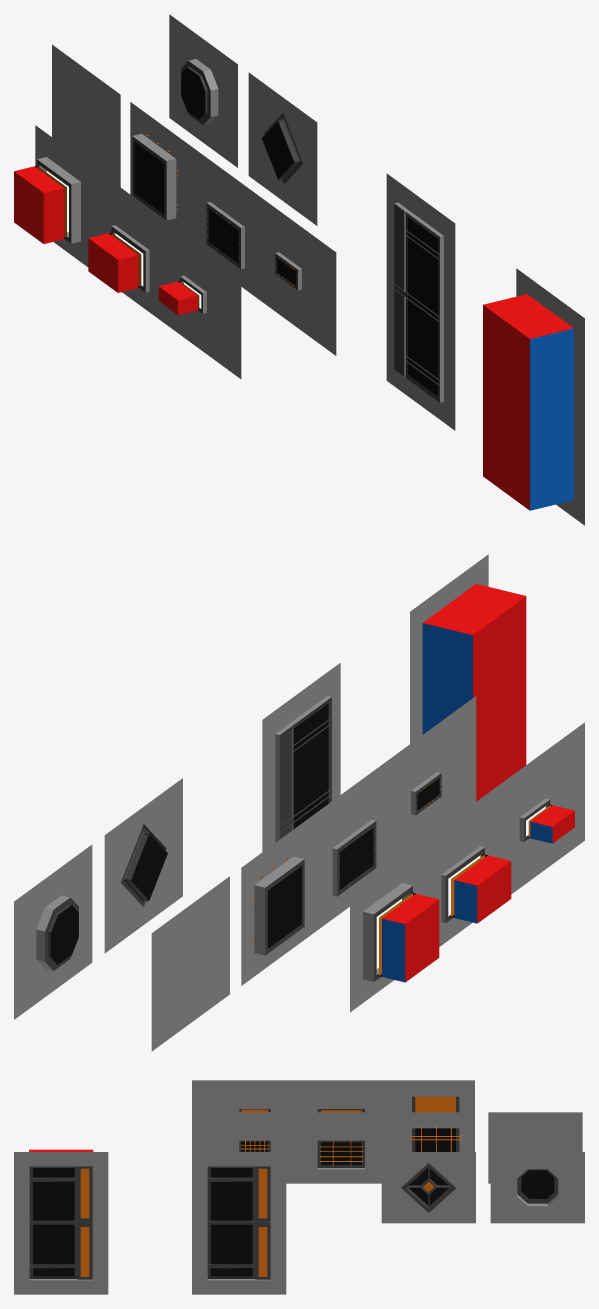
File: CityWindows00.FBX
The picture shows the model from 3 angles, top to bottom: view 1: azimuth 30°, elevation 25°; view 2: azimuth 150°, elevation 25°; view 3: azimuth 270°, elevation 25°; orthographic projection. The views are drawn at different scales.
Visible parts, largest first — view 1: CityTerrain_Window03b, CityTerrain_Window03, CityTerrain_Window02b, CityTerrain_Window00b, CityTerrain_Window01b, CityTerrain_Window00, CityTerrain_Window04, CityTerrain_Window05, CityTerrain_Window01, CityTerrain_Window02, CityTerrain_Base_3x2.008; view 2: CityTerrain_Window03b, CityTerrain_Window03, CityTerrain_Window02b, CityTerrain_Base_3x2.008, CityTerrain_Window04, CityTerrain_Window05, CityTerrain_Window02, CityTerrain_Window00b, CityTerrain_Window01b, CityTerrain_Window01, CityTerrain_Window00; view 3: CityTerrain_Window03b, CityTerrain_Window03, CityTerrain_Window01, CityTerrain_Window04, CityTerrain_Window05, CityTerrain_Base_3x2.008, CityTerrain_Window02, CityTerrain_Window00, CityTerrain_Window01b, CityTerrain_Window00b, CityTerrain_Window02b.
Part boxes in pixels (x1,y1,x2,y2): CityTerrain_Window03b: [483, 268, 584, 525]; CityTerrain_Window03: [386, 173, 455, 430]; CityTerrain_Window02b: [14, 125, 103, 266]; CityTerrain_Window00b: [158, 226, 241, 378]; CityTerrain_Window01b: [88, 175, 172, 328]; CityTerrain_Window00: [267, 202, 336, 355]; CityTerrain_Window04: [248, 72, 317, 225]; CityTerrain_Window05: [169, 14, 237, 167]; CityTerrain_Window01: [199, 152, 267, 305]; CityTerrain_Window02: [130, 102, 198, 244]; CityTerrain_Base_3x2.008: [52, 44, 120, 186]; CityTerrain_Window03b: [410, 554, 526, 801]; CityTerrain_Window03: [262, 663, 340, 851]; CityTerrain_Window02b: [350, 837, 439, 1012]; CityTerrain_Base_3x2.008: [151, 876, 229, 1051]; CityTerrain_Window04: [104, 778, 182, 953]; CityTerrain_Window05: [14, 844, 92, 1019]; CityTerrain_Window02: [241, 810, 319, 985]; CityTerrain_Window00b: [506, 722, 584, 894]; CityTerrain_Window01b: [428, 780, 511, 946]; CityTerrain_Window01: [319, 753, 397, 928]; CityTerrain_Window00: [398, 696, 476, 858]; CityTerrain_Window03b: [14, 1149, 108, 1294]; CityTerrain_Window03: [192, 1152, 286, 1294]; CityTerrain_Window01: [286, 1112, 380, 1183]; CityTerrain_Window04: [381, 1152, 475, 1223]; CityTerrain_Window05: [490, 1152, 584, 1223]; CityTerrain_Base_3x2.008: [488, 1112, 582, 1183]; CityTerrain_Window02: [380, 1112, 474, 1183]; CityTerrain_Window00: [192, 1112, 286, 1151]; CityTerrain_Window01b: [286, 1080, 380, 1112]; CityTerrain_Window00b: [192, 1080, 286, 1112]; CityTerrain_Window02b: [380, 1080, 474, 1112].
Size of the model in its own units: 63.07 by 50 by 182.
